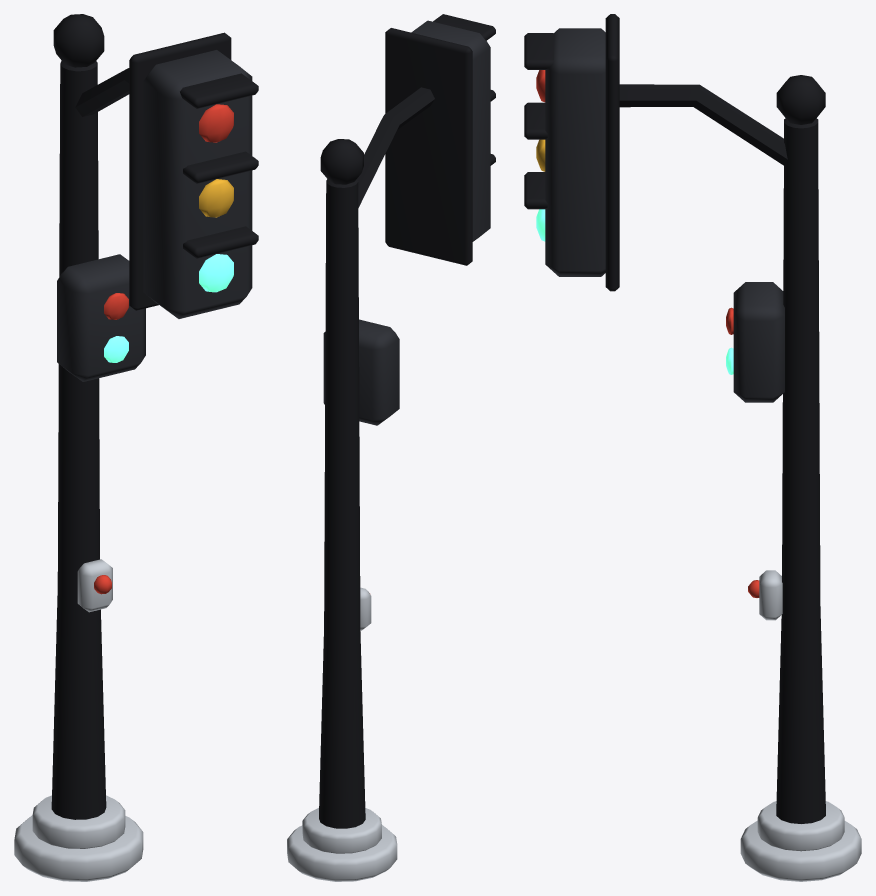
File: traffic_light.glb
3 renders of one model, left to right at view 1: azimuth 30°, elevation 25°; view 2: azimuth 150°, elevation 25°; view 3: azimuth 270°, elevation 25°, orthographic. The views are drawn at different scales.
Visible parts, largest first — view 1: traffic_light; view 2: traffic_light; view 3: traffic_light.
Boxes of the visible parts, x1,y1,x2,y2 form: traffic_light: (14, 14, 258, 881); traffic_light: (287, 14, 495, 881); traffic_light: (524, 14, 861, 881).
Bounding box in the file's own units: 0.52 × 3.91 × 1.45.
